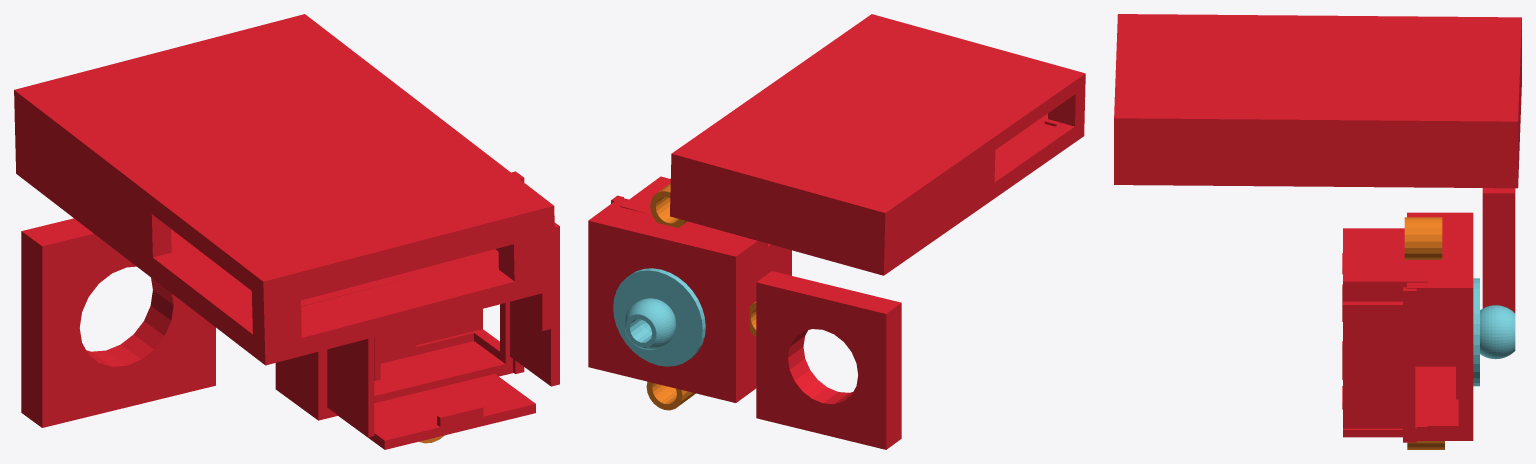
Rendered from CameraHolde.obj.
3 renders of one model, left to right at view 1: azimuth 30°, elevation 25°; view 2: azimuth 150°, elevation 25°; view 3: azimuth 270°, elevation 25°, orthographic. The views are drawn at different scales.
Parts seen in each view (by area): view 1: group_0_15277357; view 2: group_0_15277357, group_0_7720667, group_0_16089887; view 3: group_0_15277357, group_0_7720667, group_0_16089887.
Boxes of the visible parts, <box> form: group_0_15277357: <box>14,14,559,449</box>; group_0_15277357: <box>588,14,1085,449</box>; group_0_7720667: <box>613,268,705,366</box>; group_0_16089887: <box>646,183,756,410</box>; group_0_15277357: <box>1114,14,1521,442</box>; group_0_7720667: <box>1473,278,1515,386</box>; group_0_16089887: <box>1404,217,1444,449</box>.
Size of the model in its own units: 74.08 by 62.32 by 75.5.
